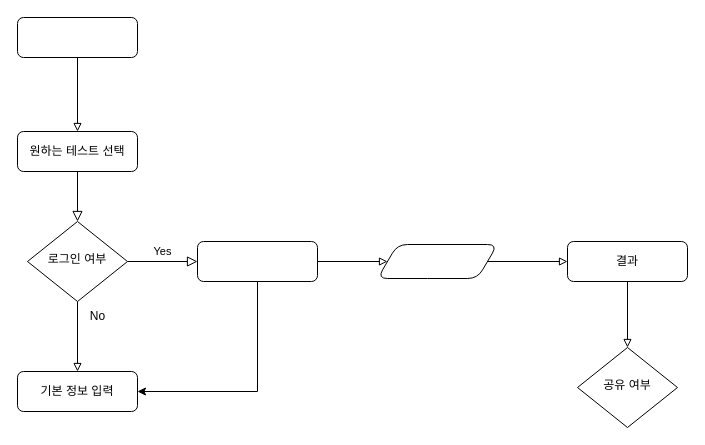
Some shapes in this 705 by 445 pixel diagram are drawn without their labels. Each missing label, with the centre of its shape:
"시작" belongs at point (77, 37).
"질문 / 응답" belongs at point (437, 261).
"테스트 화면" belongs at point (257, 261).
